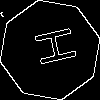H: (25, 25, 78, 70)
